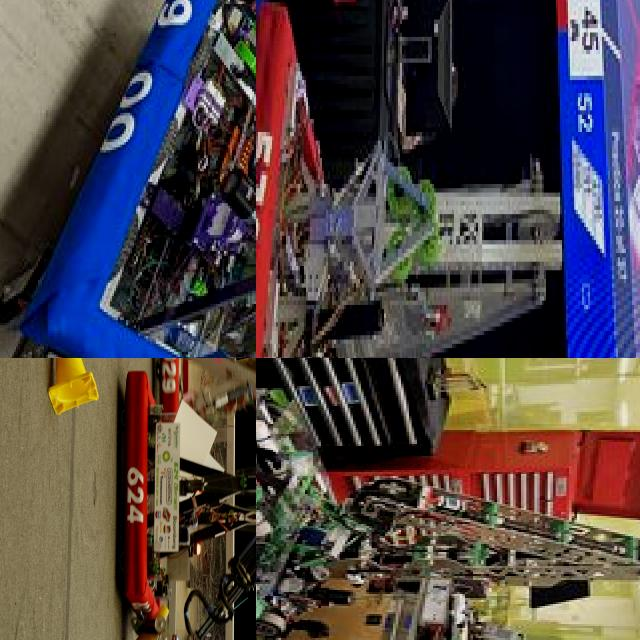FRC-Robots: (256, 3, 598, 358), (256, 407, 640, 640), (15, 0, 256, 358), (107, 385, 256, 640), (121, 358, 256, 533)
